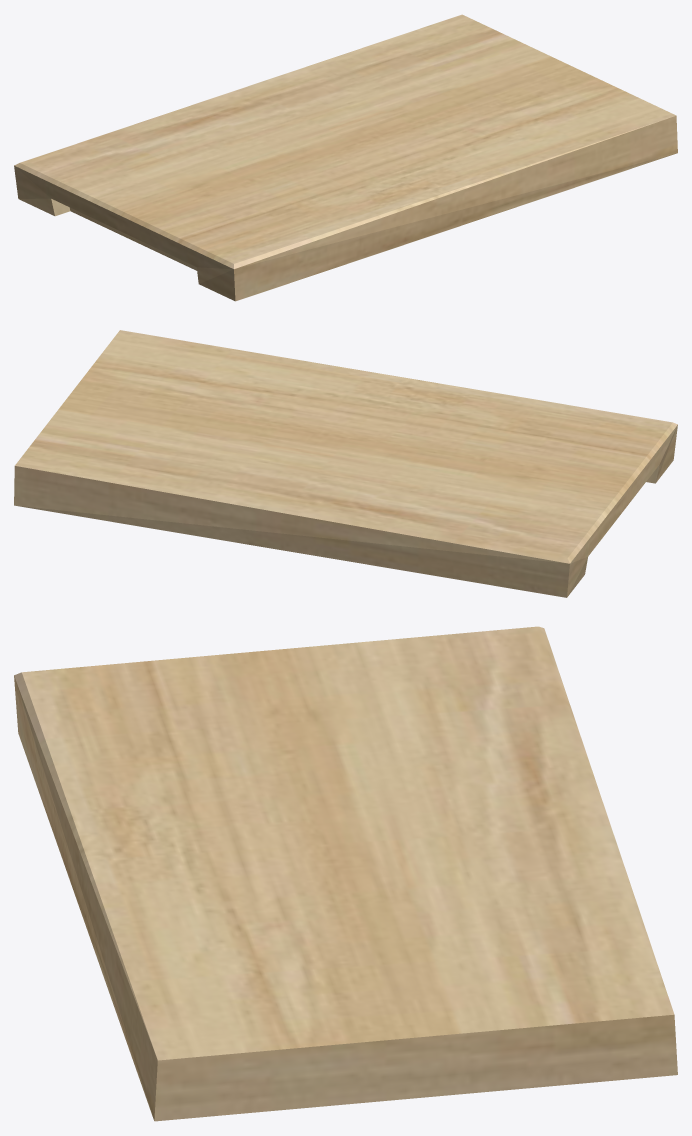
Rendered from SM_CutBoard_1.fbx.
3 renders of one model, top to bottom at view 1: azimuth 30°, elevation 25°; view 2: azimuth 150°, elevation 25°; view 3: azimuth 270°, elevation 25°, orthographic. The views are drawn at different scales.
Visible parts, largest first — view 1: GDLM1169_GDLM786_mLayer129_65; view 2: GDLM1169_GDLM786_mLayer129_65; view 3: GDLM1169_GDLM786_mLayer129_65.
Part boxes in pixels (x1,y1,x2,y2): GDLM1169_GDLM786_mLayer129_65: (14,14,677,301); GDLM1169_GDLM786_mLayer129_65: (14,330,677,597); GDLM1169_GDLM786_mLayer129_65: (14,626,677,1121).
Size of the model in its own units: 0.5147 by 0.0333 by 0.3301.
Materials: 1 (1 with a texture image).
